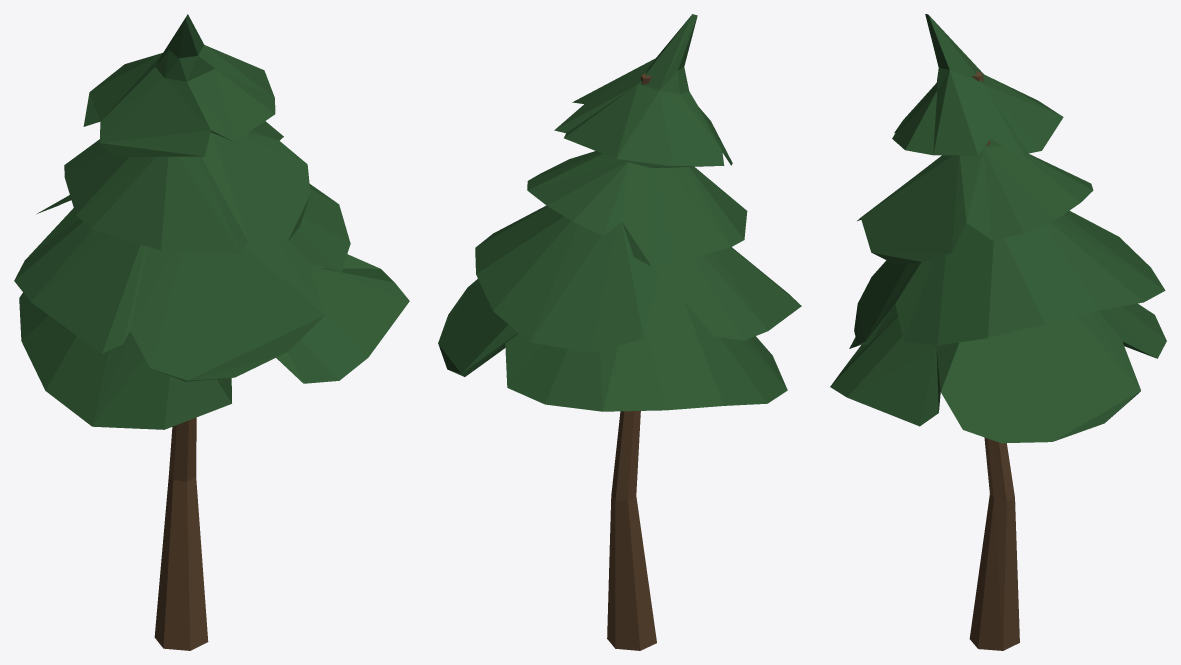
The model's file is pine_2.glb.
The picture shows the model from 3 angles, left to right: view 1: azimuth 30°, elevation 25°; view 2: azimuth 150°, elevation 25°; view 3: azimuth 270°, elevation 25°; orthographic projection. The views are drawn at different scales.
Visible parts, largest first — view 1: lod0; view 2: lod0; view 3: lod0.
Boxes of the visible parts, bbox=[...] form: lod0: bbox=[14, 14, 409, 650]; lod0: bbox=[438, 14, 801, 650]; lod0: bbox=[830, 14, 1166, 650].
Size of what is drawn, in the model's own units: 4.48 by 8.2 by 4.08.
